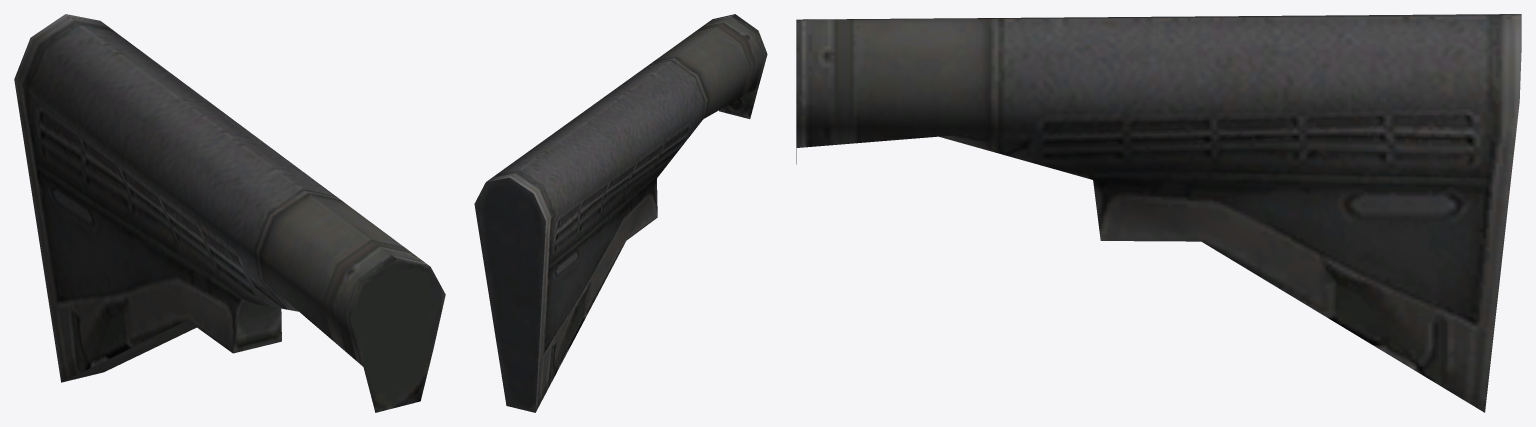
File: Assault_Rifle_bq_qtb_02_lod2_Stock_Attachment_LOD_(000368).glb
3 views of the same model, side by side, from view 1: azimuth 30°, elevation 25°; view 2: azimuth 150°, elevation 25°; view 3: azimuth 270°, elevation 25° (orthographic). The views are drawn at different scales.
Visible parts, largest first — view 1: bq_qtb_02_lod2; view 2: bq_qtb_02_lod2; view 3: bq_qtb_02_lod2.
Part boxes in pixels (box(x1,y1,x2,y2)): bq_qtb_02_lod2: box(14, 14, 445, 412); bq_qtb_02_lod2: box(474, 14, 767, 412); bq_qtb_02_lod2: box(796, 14, 1521, 412).
Size of the model in its own units: 0.0473 by 0.1518 by 0.259.
1 material, 1 textured.
